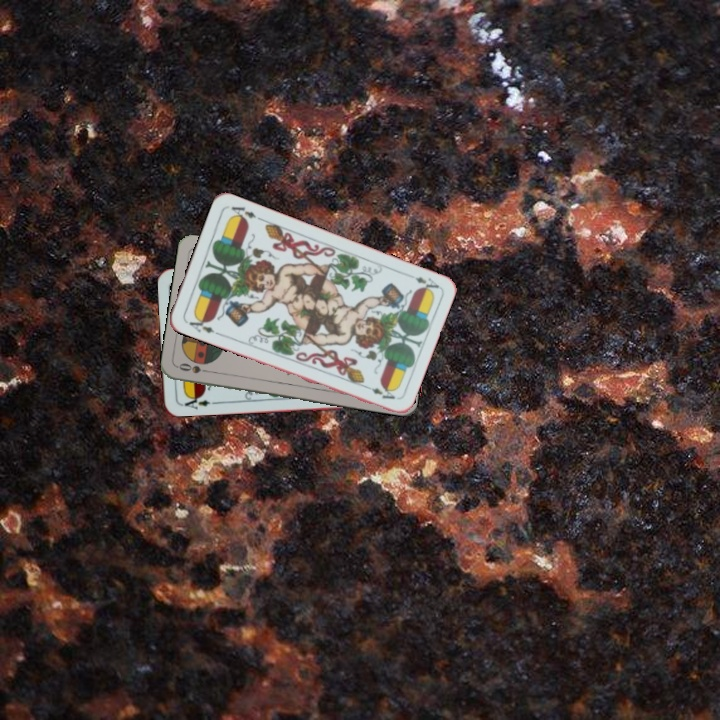EA: (182, 313, 221, 337), (177, 391, 218, 411), (411, 272, 441, 295)
SO: (175, 359, 215, 376)
